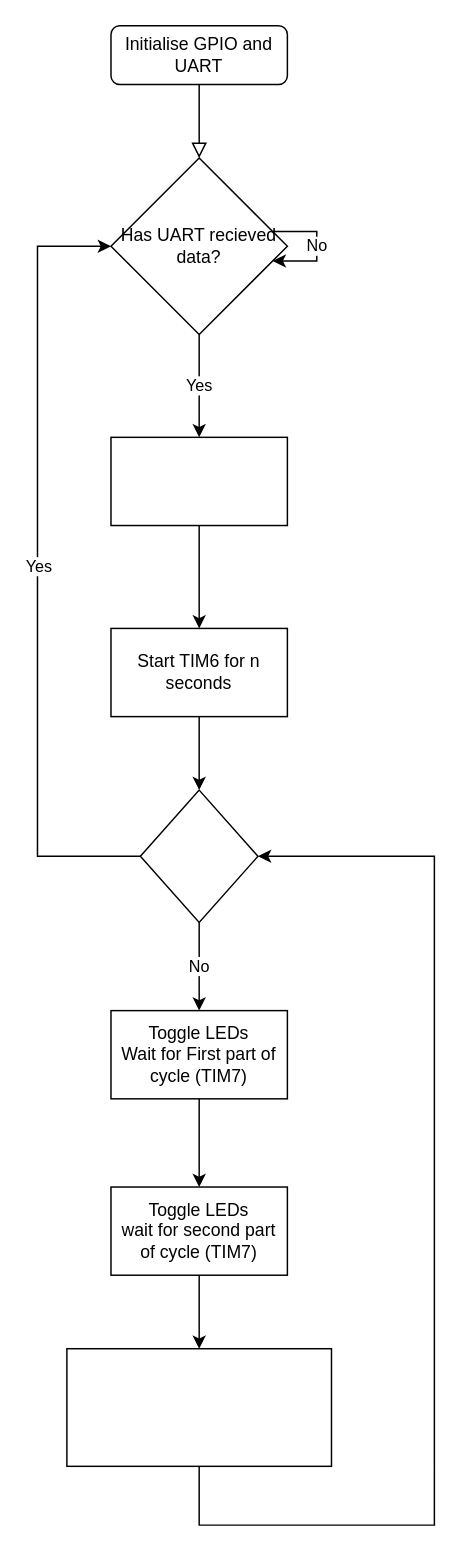
The diagram is 472 pixels wide and 1563 high, and some of its shapes have lost their labels. Here are the shapes that lost their labels. From the top down, the centre of each, then its label:
pixel 198 481: Read data, select TIM6 and TIM7 pre-scale
pixel 198 855: Is TIM6 complete?
pixel 198 1406: Adjust next used count values for TIM7, changing the effective duty of the LED
